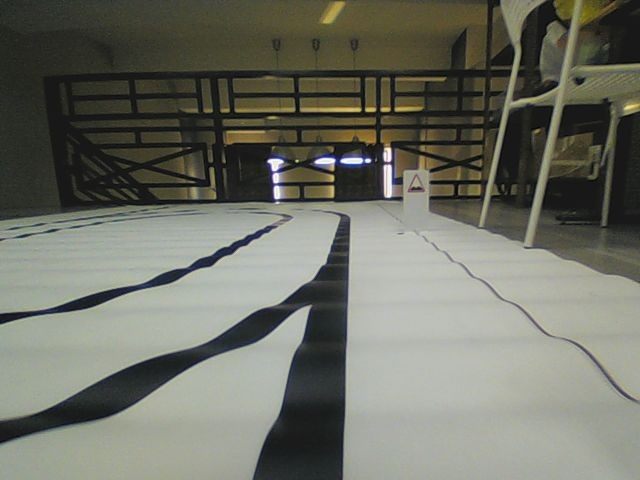Nerov: (406, 172, 426, 193)
